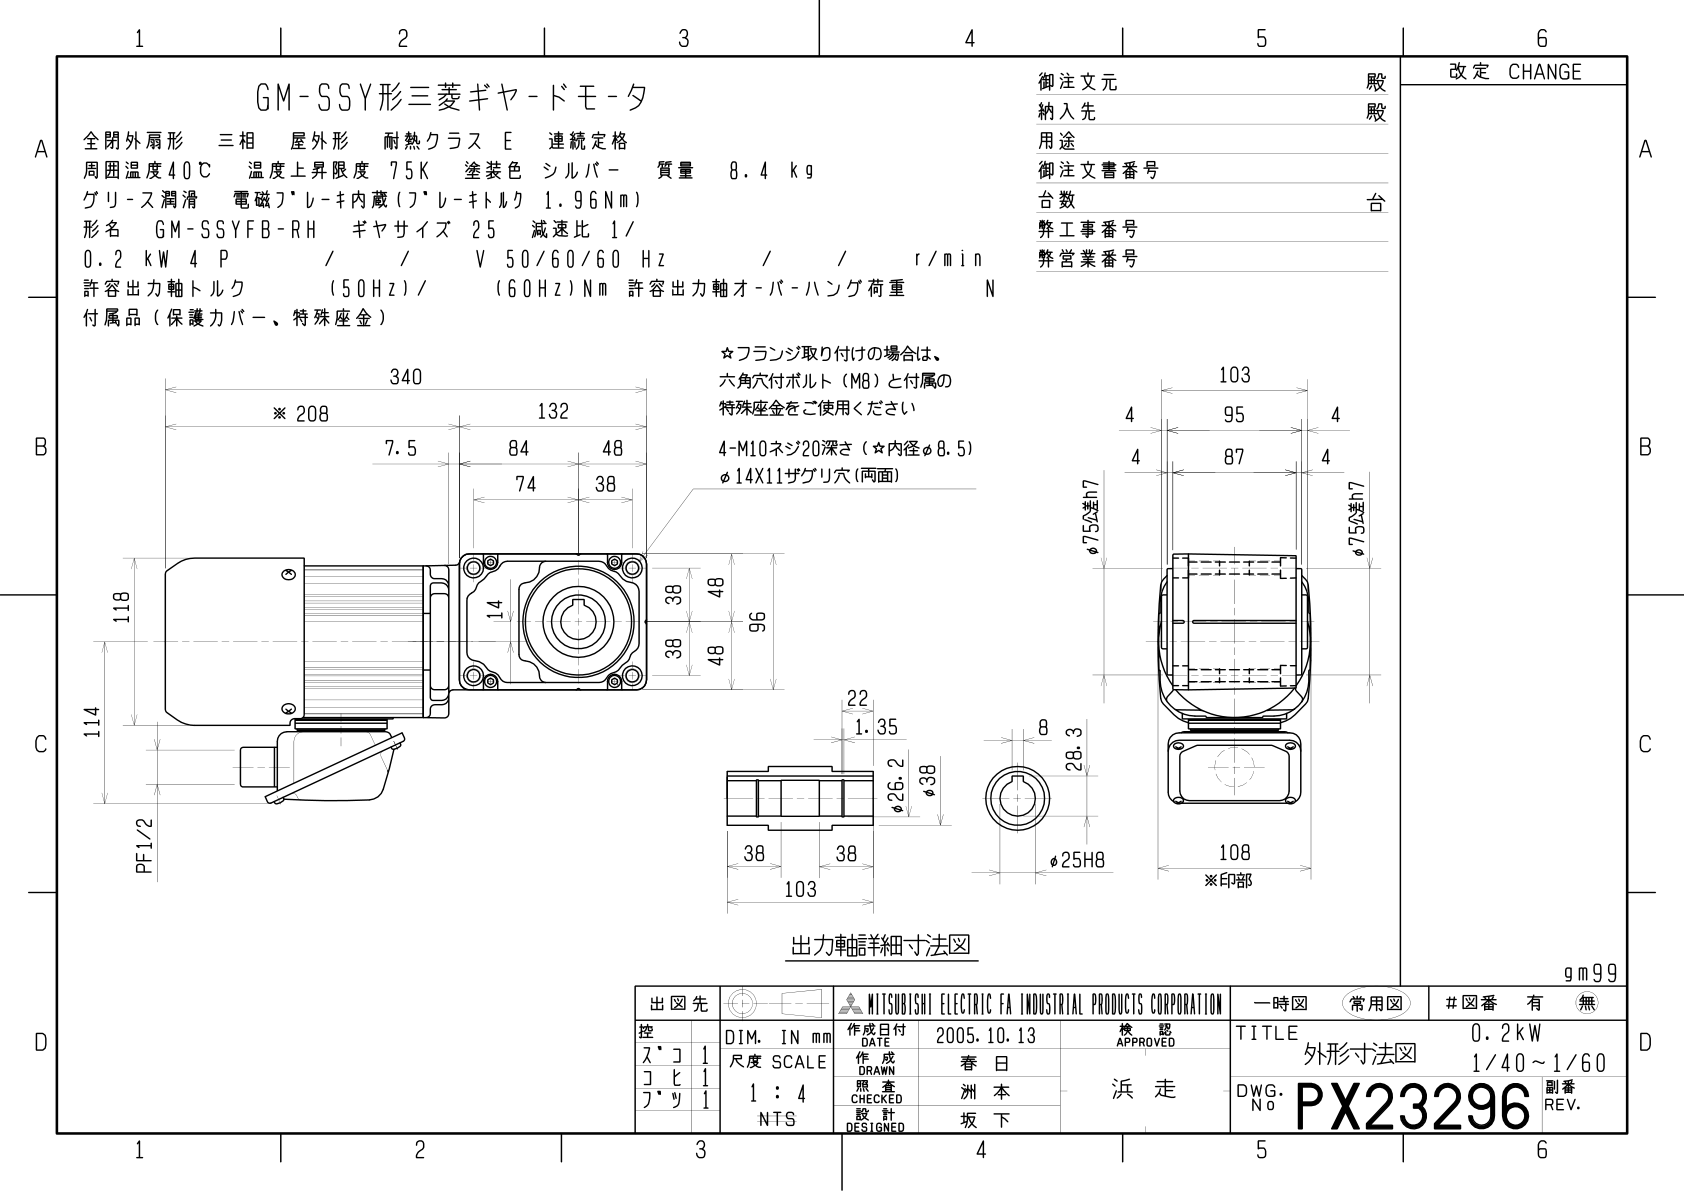GM_SSY_インバータ屋外_三相: (63, 333, 1392, 929)
